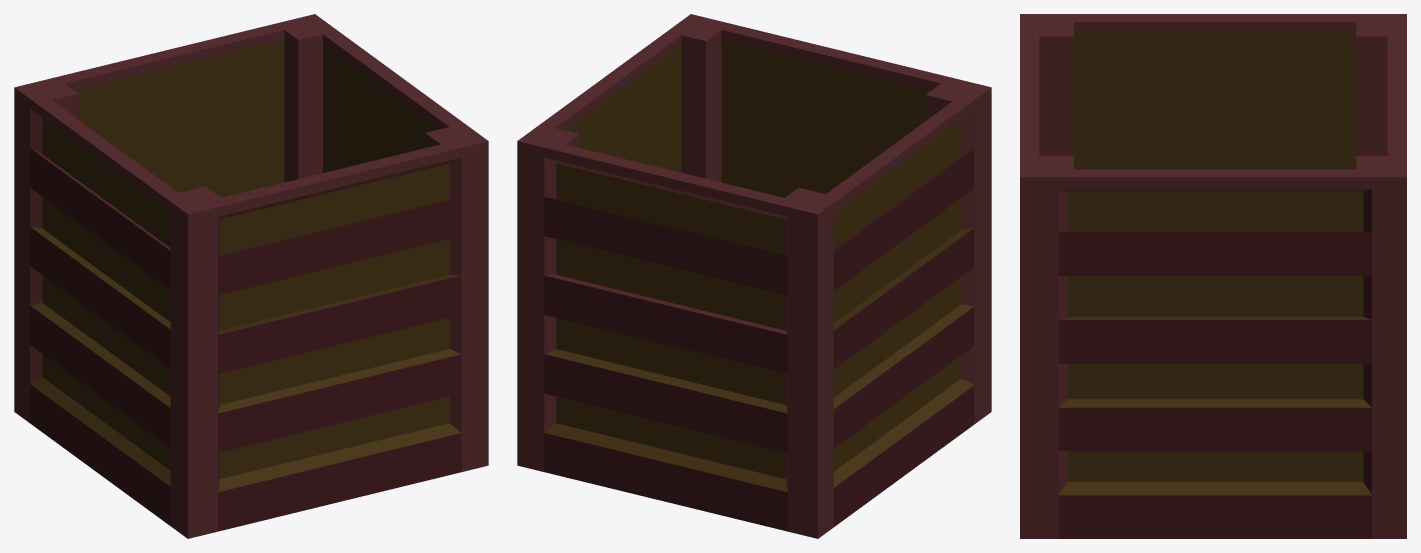
Rendered from krat open.fbx.
3 views of the same model, side by side, from view 1: azimuth 30°, elevation 25°; view 2: azimuth 150°, elevation 25°; view 3: azimuth 270°, elevation 25° (orthographic). The views are drawn at different scales.
Parts seen in each view (by area): view 1: Cube; view 2: Cube; view 3: Cube.
Boxes of the visible parts, x1,y1,x2,y2 form: Cube: (14,14,488,538); Cube: (517,14,991,538); Cube: (1020,14,1406,538).
Bounding box in the file's own units: 200 × 206 × 200.
